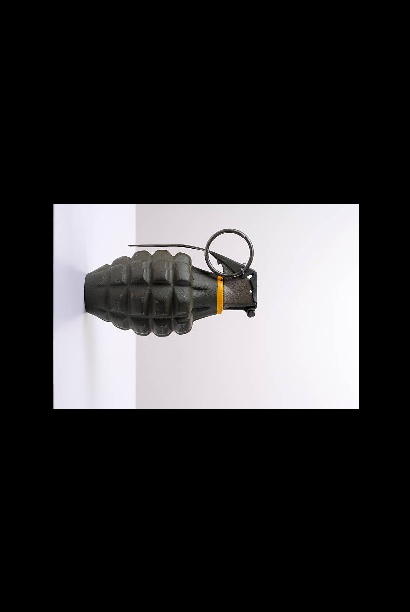e1: (80, 226, 259, 338)
